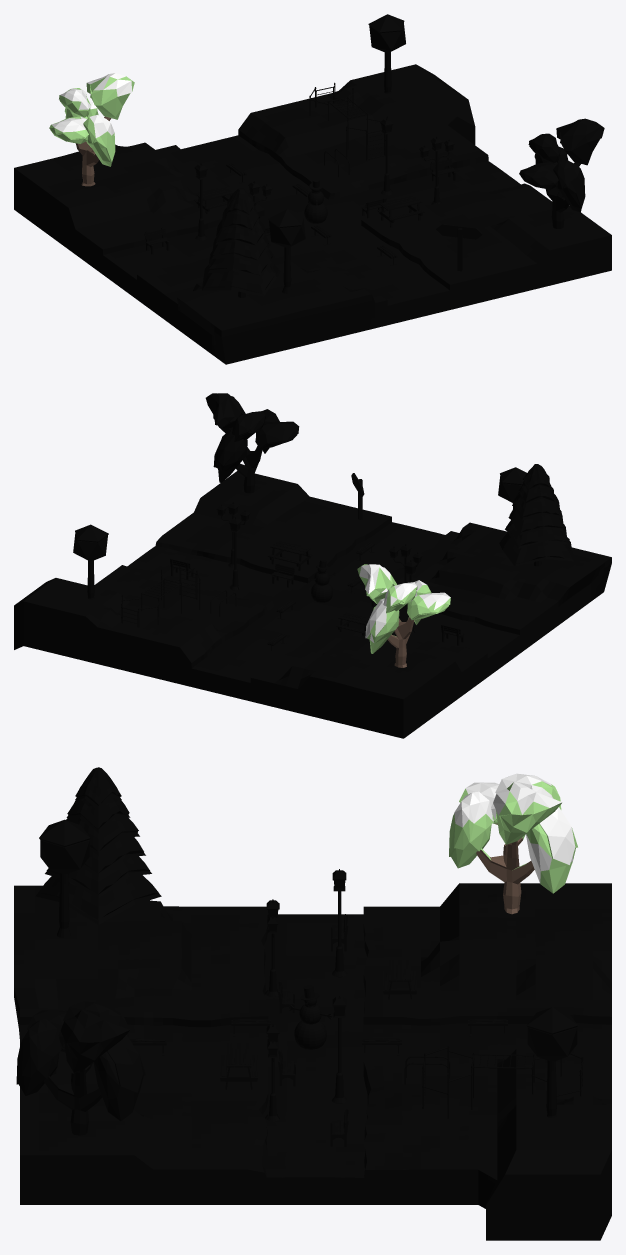
Rendered from setting_bread _frency.fbx.
The picture shows the model from 3 angles, top to bottom: view 1: azimuth 30°, elevation 25°; view 2: azimuth 150°, elevation 25°; view 3: azimuth 270°, elevation 25°; orthographic projection. The views are drawn at different scales.
Visible parts, largest first — view 1: Landscape; view 2: Landscape; view 3: Landscape.
Part boxes in pixels (left/top/right/bottom): Landscape: left=14, top=14, right=611, bottom=364; Landscape: left=14, top=393, right=611, bottom=738; Landscape: left=14, top=767, right=611, bottom=1240.
Bounding box in the file's own units: 3020 × 1064 × 2650.
